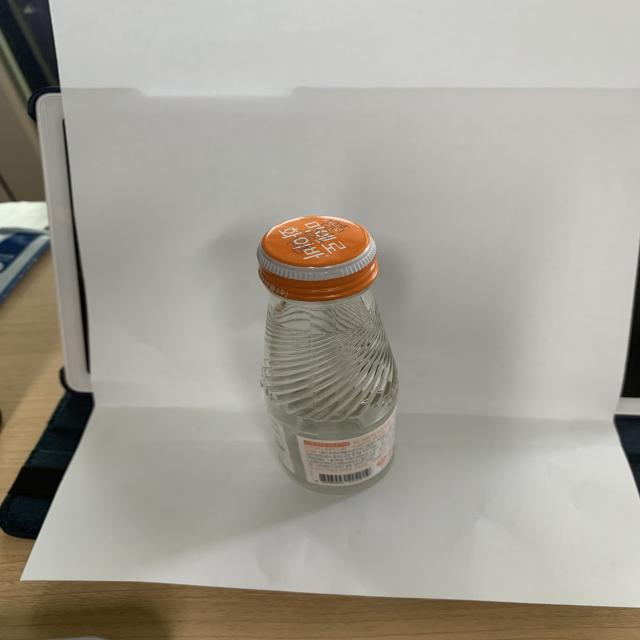Glass: (255, 215, 400, 495)
